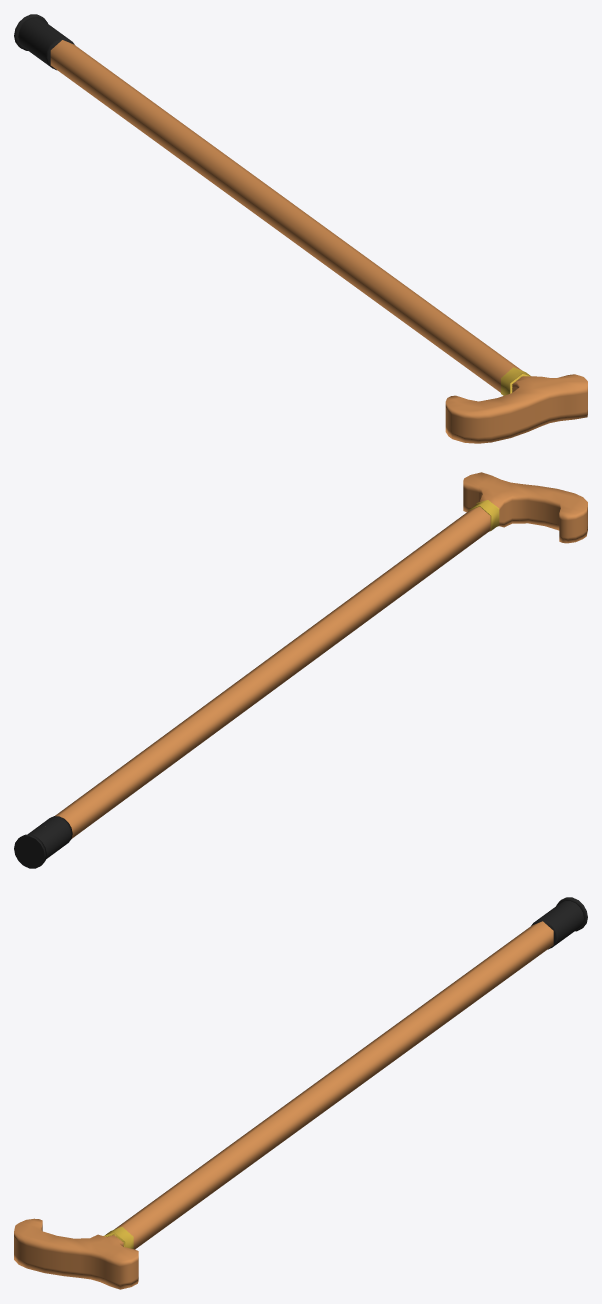
Rendered from cane.fbx.
3 views of the same model, one above another, from view 1: azimuth 30°, elevation 25°; view 2: azimuth 150°, elevation 25°; view 3: azimuth 330°, elevation 25° (orthographic). The views are drawn at different scales.
Visible parts, largest first — view 1: cane; view 2: cane; view 3: cane.
Part boxes in pixels (bbox=[...]): cane: bbox=[14, 14, 587, 443]; cane: bbox=[14, 472, 587, 868]; cane: bbox=[14, 897, 587, 1289].
Bounding box in the file's own units: 0.5559 × 0.1433 × 3.83.
